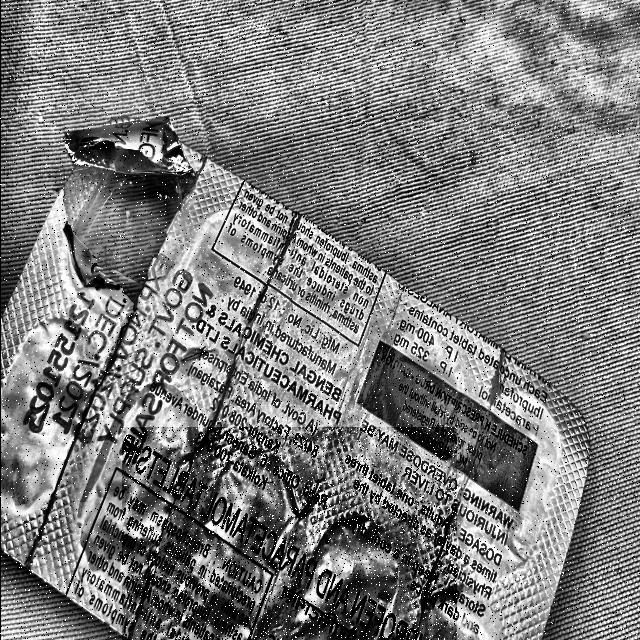IBUPROFEN AND PARACETAMOL TABLETS: (121, 427, 456, 640)
